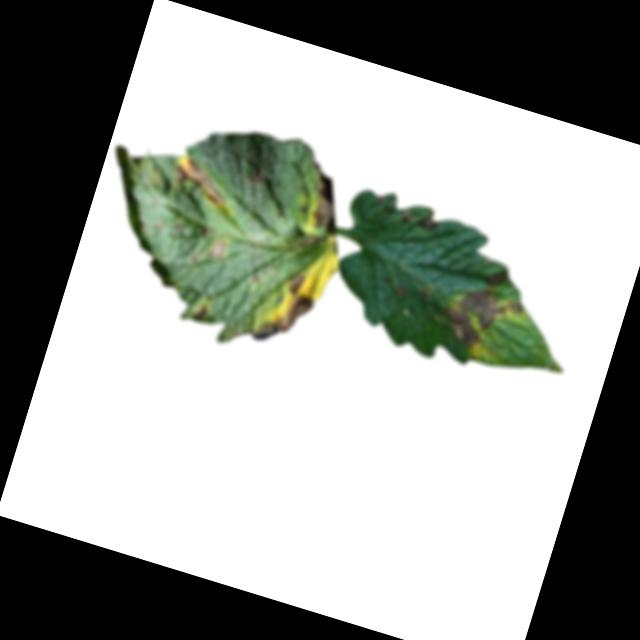Early_blight: (436, 279, 527, 361), (249, 263, 323, 353), (164, 149, 241, 211), (306, 170, 351, 238), (206, 233, 228, 262), (414, 210, 441, 233), (187, 300, 207, 323), (416, 286, 432, 300), (399, 282, 412, 296)
